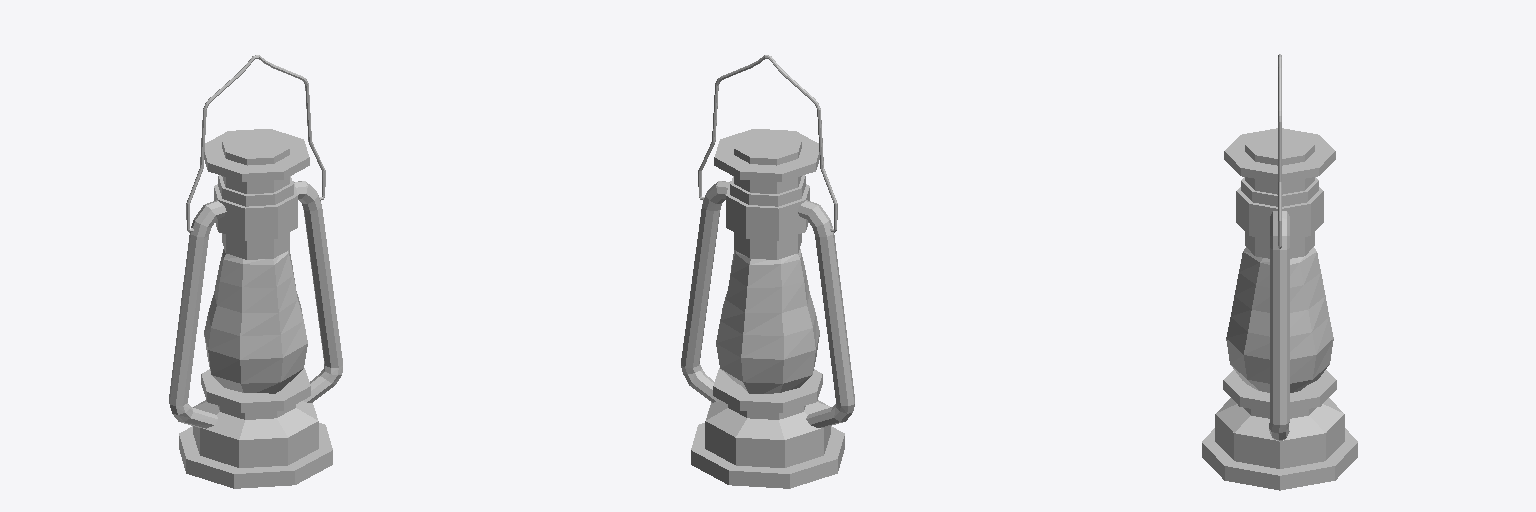
File: lantern.obj
3 renders of one model, left to right at view 1: azimuth 30°, elevation 25°; view 2: azimuth 150°, elevation 25°; view 3: azimuth 270°, elevation 25°, orthographic.
Parts seen in each view (by area): view 1: group1 lantern pCylinder3, pCylinder1 group1 lantern, group1 lantern pCylinder6, group1 lantern pCylinder2; view 2: group1 lantern pCylinder3, pCylinder1 group1 lantern, group1 lantern pCylinder6, group1 lantern pCylinder2; view 3: group1 lantern pCylinder3, pCylinder1 group1 lantern, group1 lantern pCylinder2, group1 lantern pCylinder6.
Part boxes in pixels (x1,y1,x2,y2): group1 lantern pCylinder3: (179, 368, 332, 488); pCylinder1 group1 lantern: (204, 249, 307, 393); group1 lantern pCylinder6: (169, 55, 342, 428); group1 lantern pCylinder2: (204, 129, 309, 259); group1 lantern pCylinder3: (691, 368, 844, 488); pCylinder1 group1 lantern: (716, 249, 819, 393); group1 lantern pCylinder6: (681, 55, 854, 427); group1 lantern pCylinder2: (714, 129, 819, 259); group1 lantern pCylinder3: (1202, 370, 1357, 490); pCylinder1 group1 lantern: (1226, 247, 1333, 392); group1 lantern pCylinder2: (1224, 128, 1335, 258); group1 lantern pCylinder6: (1269, 54, 1289, 441).
Bounding box in the file's own units: 1.71 × 3.79 × 1.34.